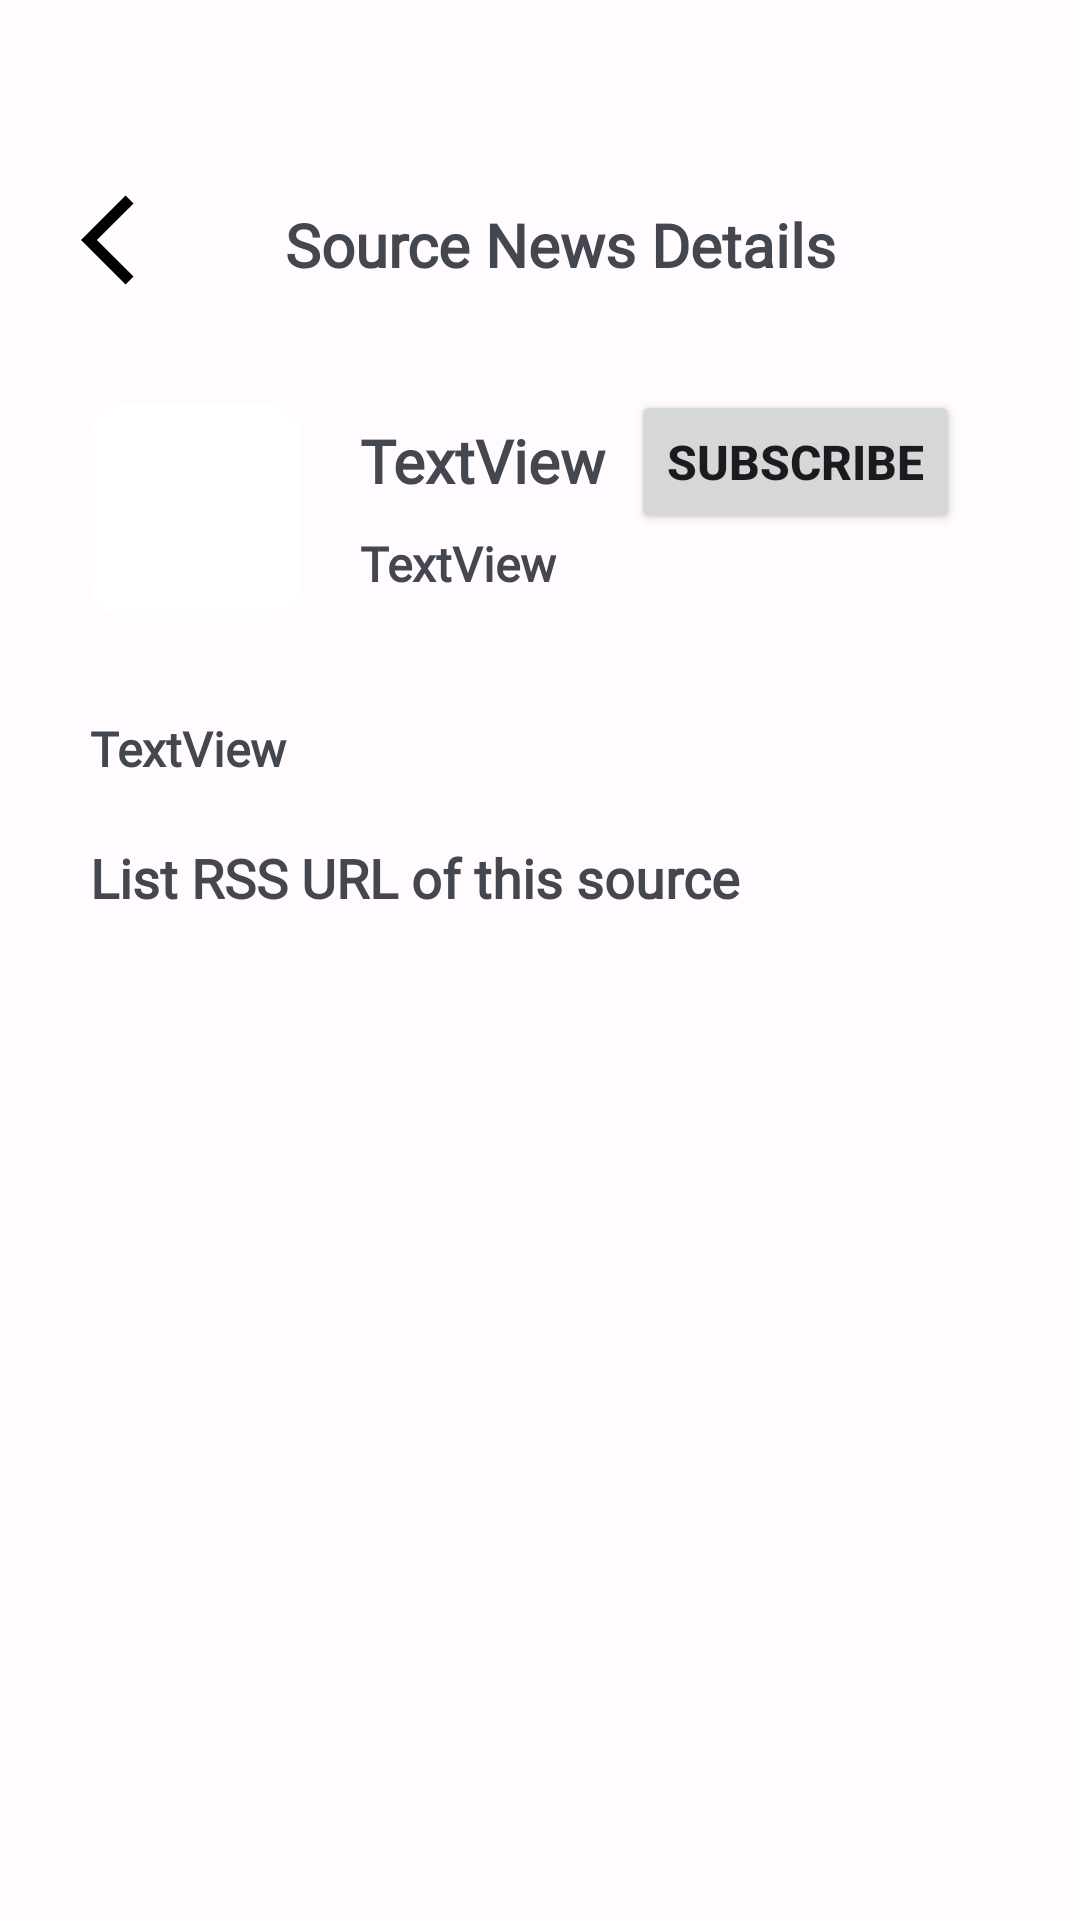

Icons on this 1080w x 1920h Android screen, each with its box as bbox(x1, y1, x2, y2):
arrow back: bbox(81, 195, 134, 285)
